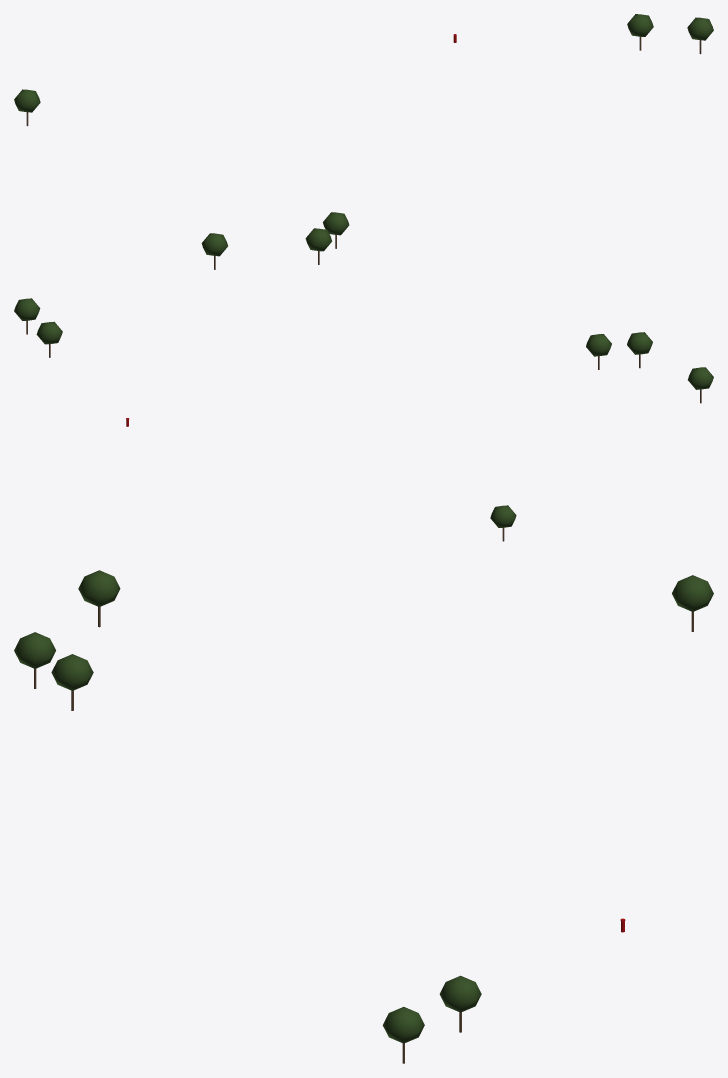
File: props.glb
3 renders of one model, top to bottom at view 1: azimuth 30°, elevation 25°; view 2: azimuth 150°, elevation 25°; view 3: azimuth 270°, elevation 25°, orthographic. The views are drawn at different scales.
Visible parts, largest first — view 1: T_W1_N4_props; view 2: T_W1_N4_props; view 3: T_W1_N4_props.
Boxes of the visible parts, left/top/right/bottom form: T_W1_N4_props: left=14, top=14, right=713, bottom=269; T_W1_N4_props: left=14, top=298, right=713, bottom=541; T_W1_N4_props: left=14, top=570, right=713, bottom=1063.
Bounding box in the file's own units: 127 × 7.2 × 82.8.
